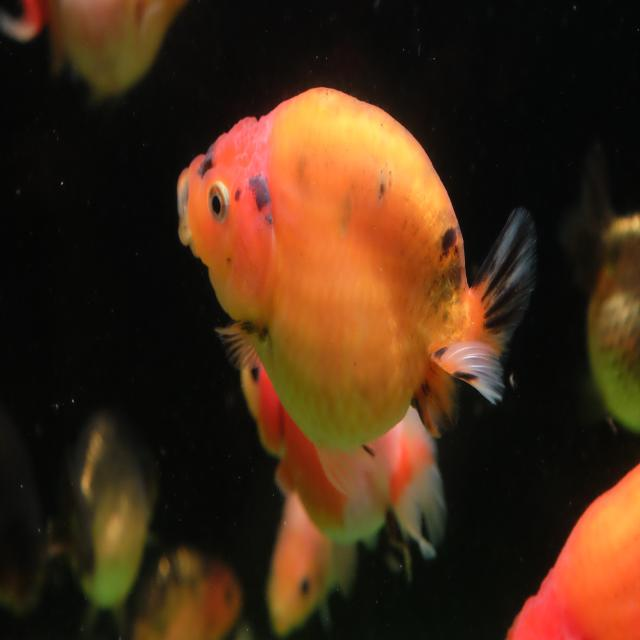Goldfish: (176, 83, 539, 462), (239, 338, 451, 562), (37, 400, 163, 619), (124, 530, 248, 640), (264, 491, 357, 637)
